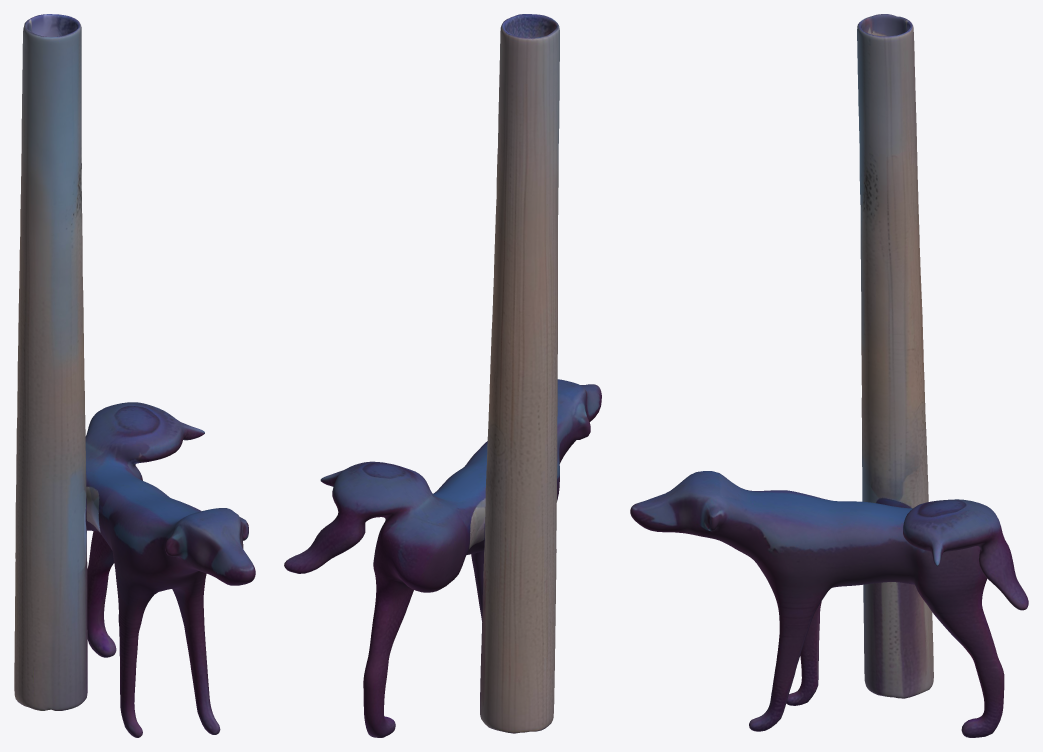
File: Dog.fbx
The picture shows the model from 3 angles, left to right: view 1: azimuth 30°, elevation 25°; view 2: azimuth 150°, elevation 25°; view 3: azimuth 270°, elevation 25°; orthographic projection. The views are drawn at different scales.
Parts seen in each view (by area): view 1: Dog; view 2: Dog; view 3: Dog.
Boxes of the visible parts, left/top/right/bottom form: Dog: left=14, top=14, right=255, bottom=737; Dog: left=284, top=14, right=601, bottom=737; Dog: left=630, top=14, right=1028, bottom=737.
Bounding box in the file's own units: 43.52 × 139 × 75.33.
1 material, 1 textured.
